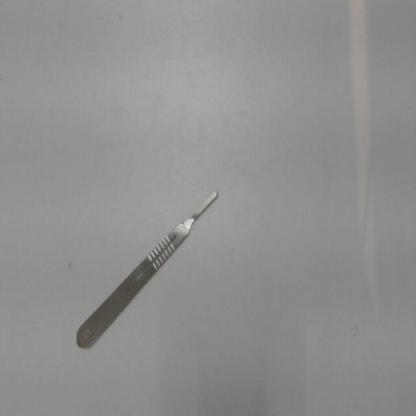No.4 BP Handle: (66, 182, 226, 361)
